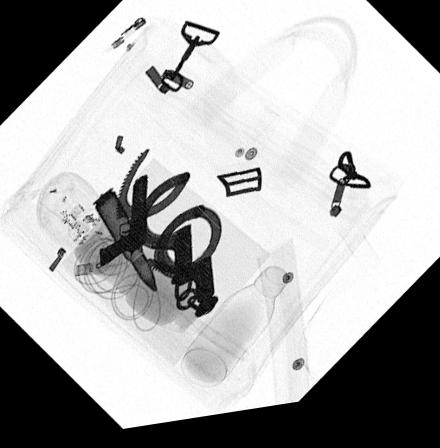Bullet: (92, 189, 157, 297)
Gun: (100, 176, 148, 270)
HandCuffs: (113, 150, 224, 325)
